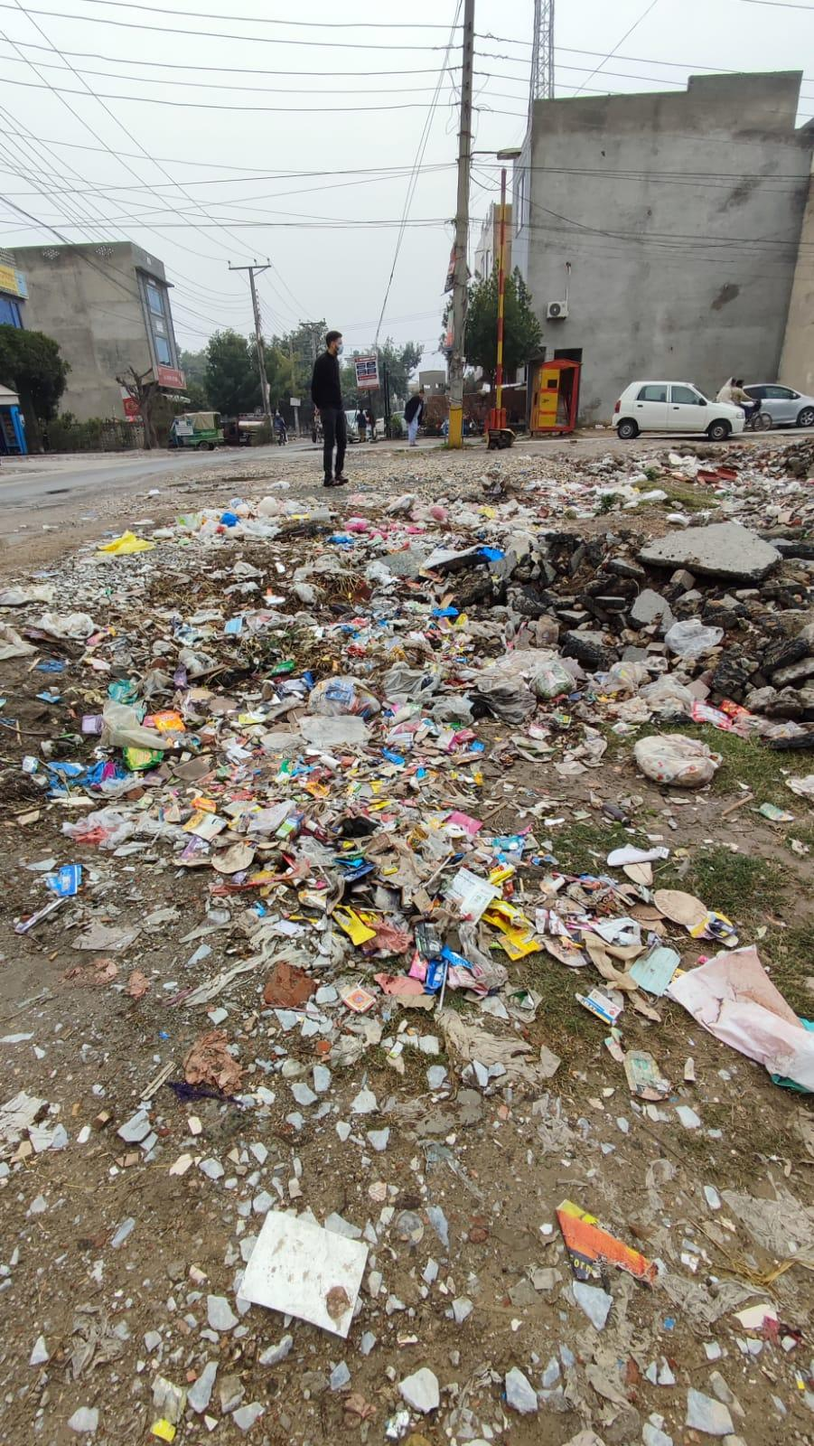garbage: (58, 495, 814, 1162)
